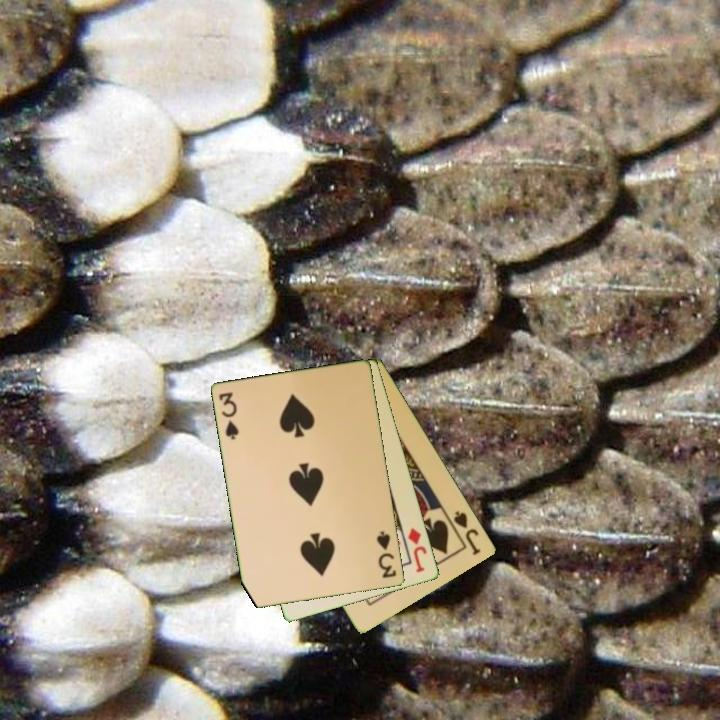3s: (216, 389, 242, 443), (373, 528, 399, 581)
Jd: (404, 524, 430, 575)
Js: (450, 507, 484, 558)
